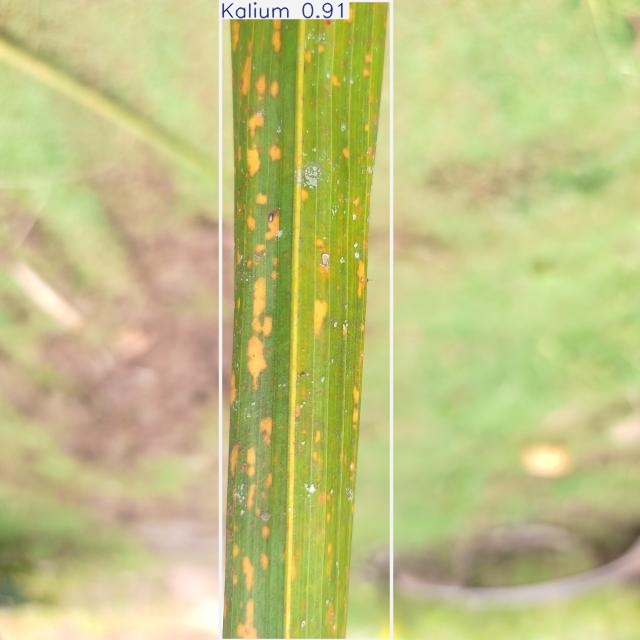Kalium: (220, 0, 392, 640)
